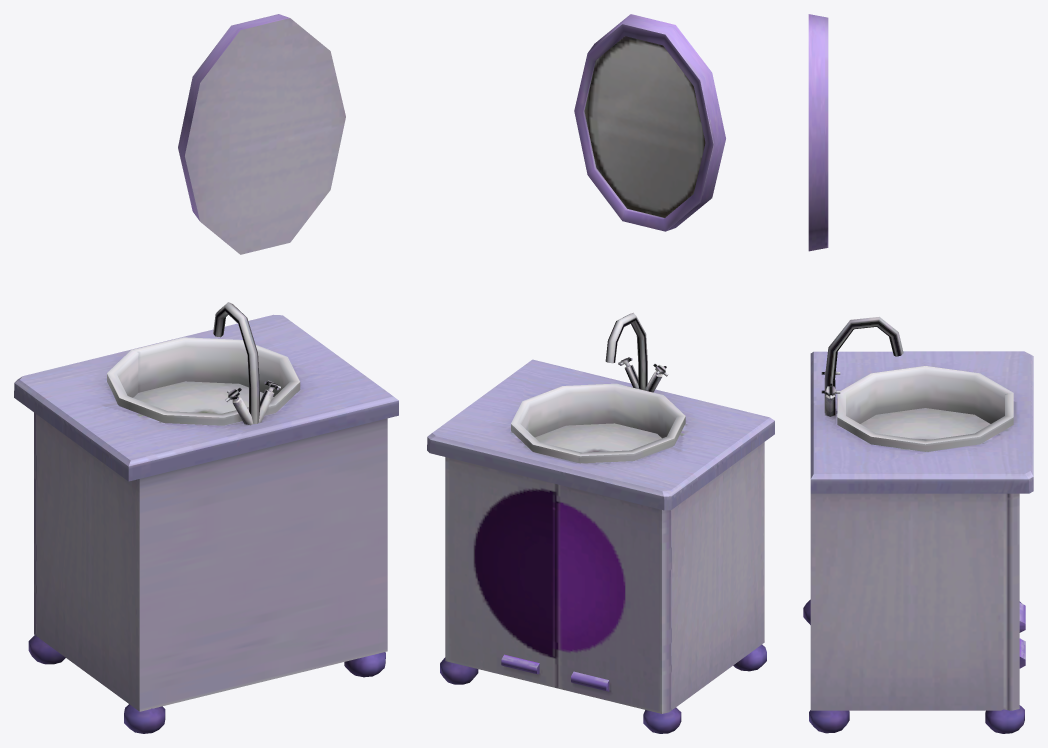
File: furni_0200525_03.FBX
3 renders of one model, left to right at view 1: azimuth 30°, elevation 25°; view 2: azimuth 150°, elevation 25°; view 3: azimuth 270°, elevation 25°, orthographic. The views are drawn at different scales.
Parts seen in each view (by area): view 1: furni_0200525_03; view 2: furni_0200525_03; view 3: furni_0200525_03.
Part boxes in pixels (x1,y1,x2,y2): furni_0200525_03: (14, 14, 398, 733); furni_0200525_03: (427, 14, 774, 733); furni_0200525_03: (803, 14, 1033, 733).
Bounding box in the file's own units: 80.26 × 193 × 62.09.
1 material, 1 textured.
